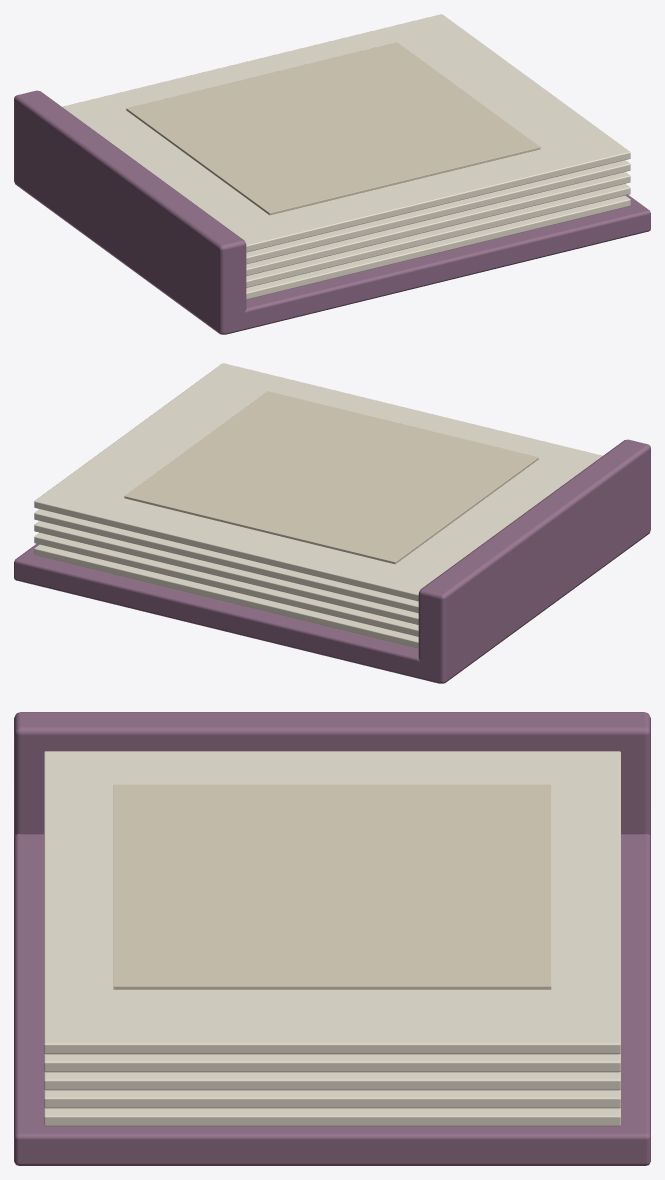
The model's file is museum-conservation-and-art-restoration-museum-conserv-9fb30dd6__31896.glb.
3 views of the same model, one above another, from view 1: azimuth 30°, elevation 25°; view 2: azimuth 150°, elevation 25°; view 3: azimuth 270°, elevation 25° (orthographic). The views are drawn at different scales.
Visible parts, largest first — view 1: museum-conservation-and-art-restoration-loose-leaf-storage-b (×3); view 2: museum-conservation-and-art-restoration-loose-leaf-storage-b (×3); view 3: museum-conservation-and-art-restoration-loose-leaf-storage-b (×3).
Boxes of the visible parts, box(x1,y1,x2,y2) form: museum-conservation-and-art-restoration-loose-leaf-storage-b (×3): box(14, 14, 650, 334); museum-conservation-and-art-restoration-loose-leaf-storage-b (×3): box(14, 363, 650, 683); museum-conservation-and-art-restoration-loose-leaf-storage-b (×3): box(14, 712, 650, 1165).
Bounding box in the file's own units: 0.191 × 0.038 × 0.16.
